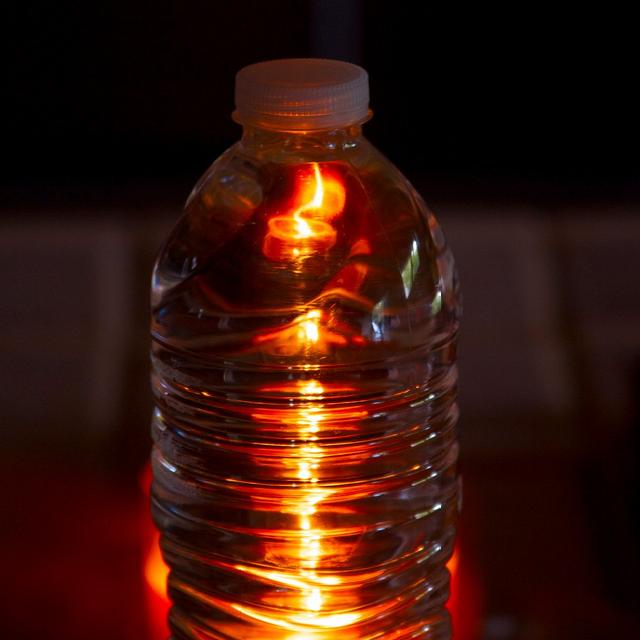Bottle: (145, 40, 471, 640)
